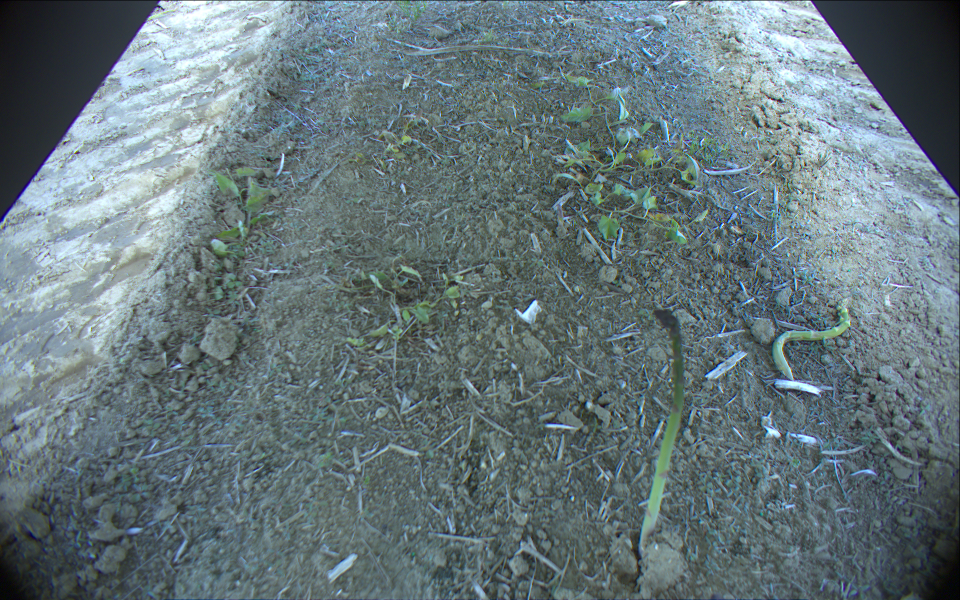aspa: (641, 306, 686, 554), (773, 297, 853, 380)
